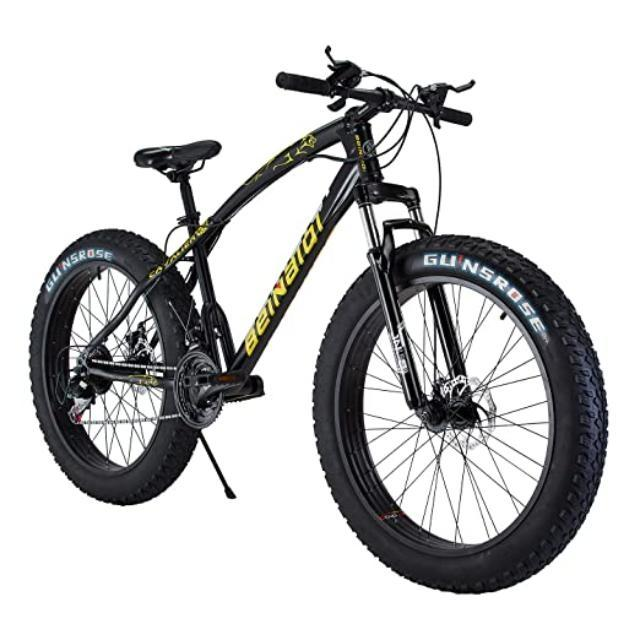obstacle: (26, 41, 634, 602)
